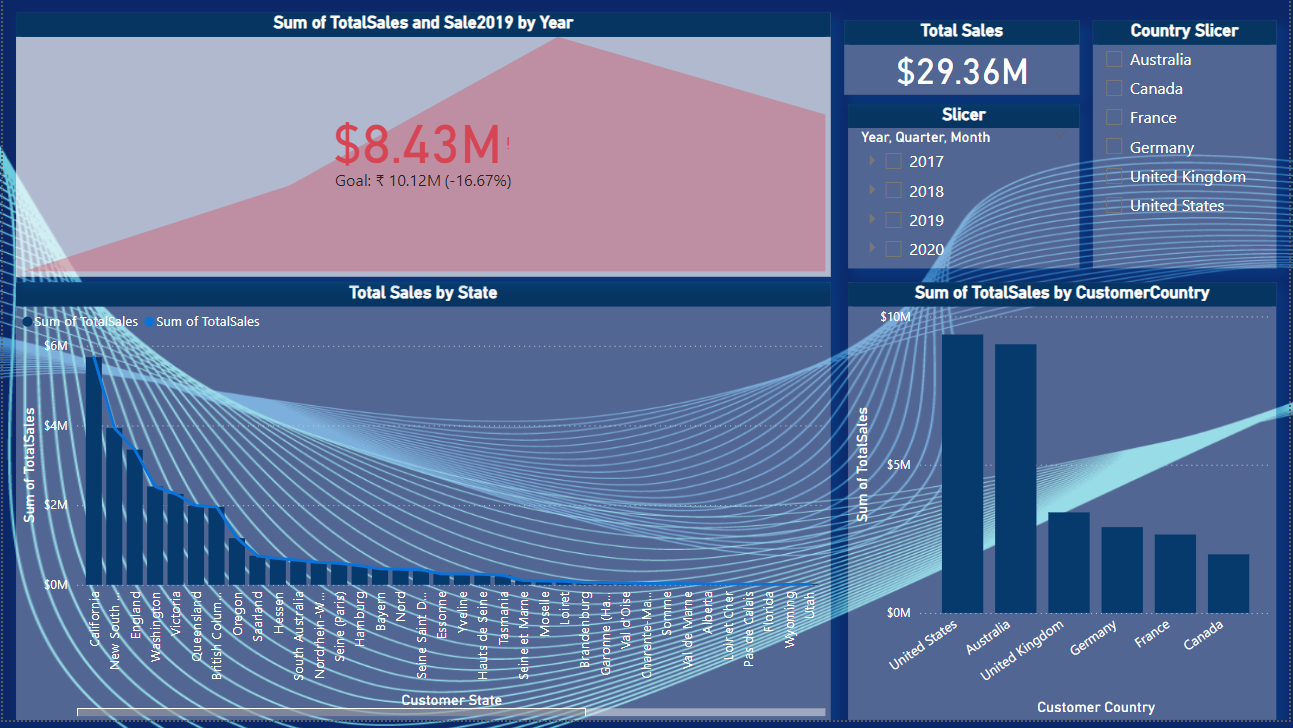

The page's visual inventory and layout, read from the dashboard file:
{"tool":"powerbi","page":{"name":"Sales Quaterly Yearly Monthly by country","canvas":[1280,720],"ordinal":1},"visuals":[{"type":"clusteredColumnChart","fields":{"Y":["Sum(Sales.TotalSales)"],"Category":["Sales.CustomerCountry"]},"box":[841.1,285.1,426.4,435.5],"z":0},{"type":"lineStackedColumnComboChart","title":"Total Sales by State","fields":{"Category":["Sales.CustomerState"],"Y":["Sum(Sales.TotalSales)"],"Y2":["Sum(Sales.TotalSales)"]},"box":[13,284.6,810.9,436.6],"z":1000},{"type":"slicer","title":"Country Slicer","fields":{"Values":["Sales.CustomerCountry"]},"box":[1084.8,24.6,182.7,246.3],"z":2000},{"type":"slicer","title":"Slicer","fields":{"Values":["Sales.DeliveryDueDate.Variation.Date Hierarchy.Year","Sales.DeliveryDueDate.Variation.Date Hierarchy.Quarter","Sales.DeliveryDueDate.Variation.Date Hierarchy.Month"]},"box":[841.1,107.6,230.7,163.3],"z":3000},{"type":"card","title":"Total Sales","fields":{"Values":["Sum(Sales.TotalSales)"]},"box":[837.3,24.6,234.6,73.9],"z":4000},{"type":"kpi","fields":{"Goal":["_Measures.Sale2019"],"Indicator":["Sum(Sales.TotalSales)"],"TrendLine":["Sales.OrderDate.Variation.Date Hierarchy.Year"]},"box":[13,16.9,810.9,262.5],"z":5000}]}

Visuals, with their boxes in screenshot pixels (x1, y1, x2, y2), scaled from the page's 1280x720 canvas onto the 1293x728 screenshot:
clusteredColumnChart - Sum(Sales.TotalSales) x Sales.CustomerCountry: detection(850, 288, 1280, 727)
"Total Sales by State" lineStackedColumnComboChart: detection(13, 288, 832, 727)
"Country Slicer" slicer: detection(1096, 25, 1280, 274)
"Slicer" slicer: detection(850, 109, 1083, 274)
"Total Sales" card: detection(846, 25, 1083, 100)
kpi - _Measures.Sale2019 x Sum(Sales.TotalSales): detection(13, 17, 832, 283)
